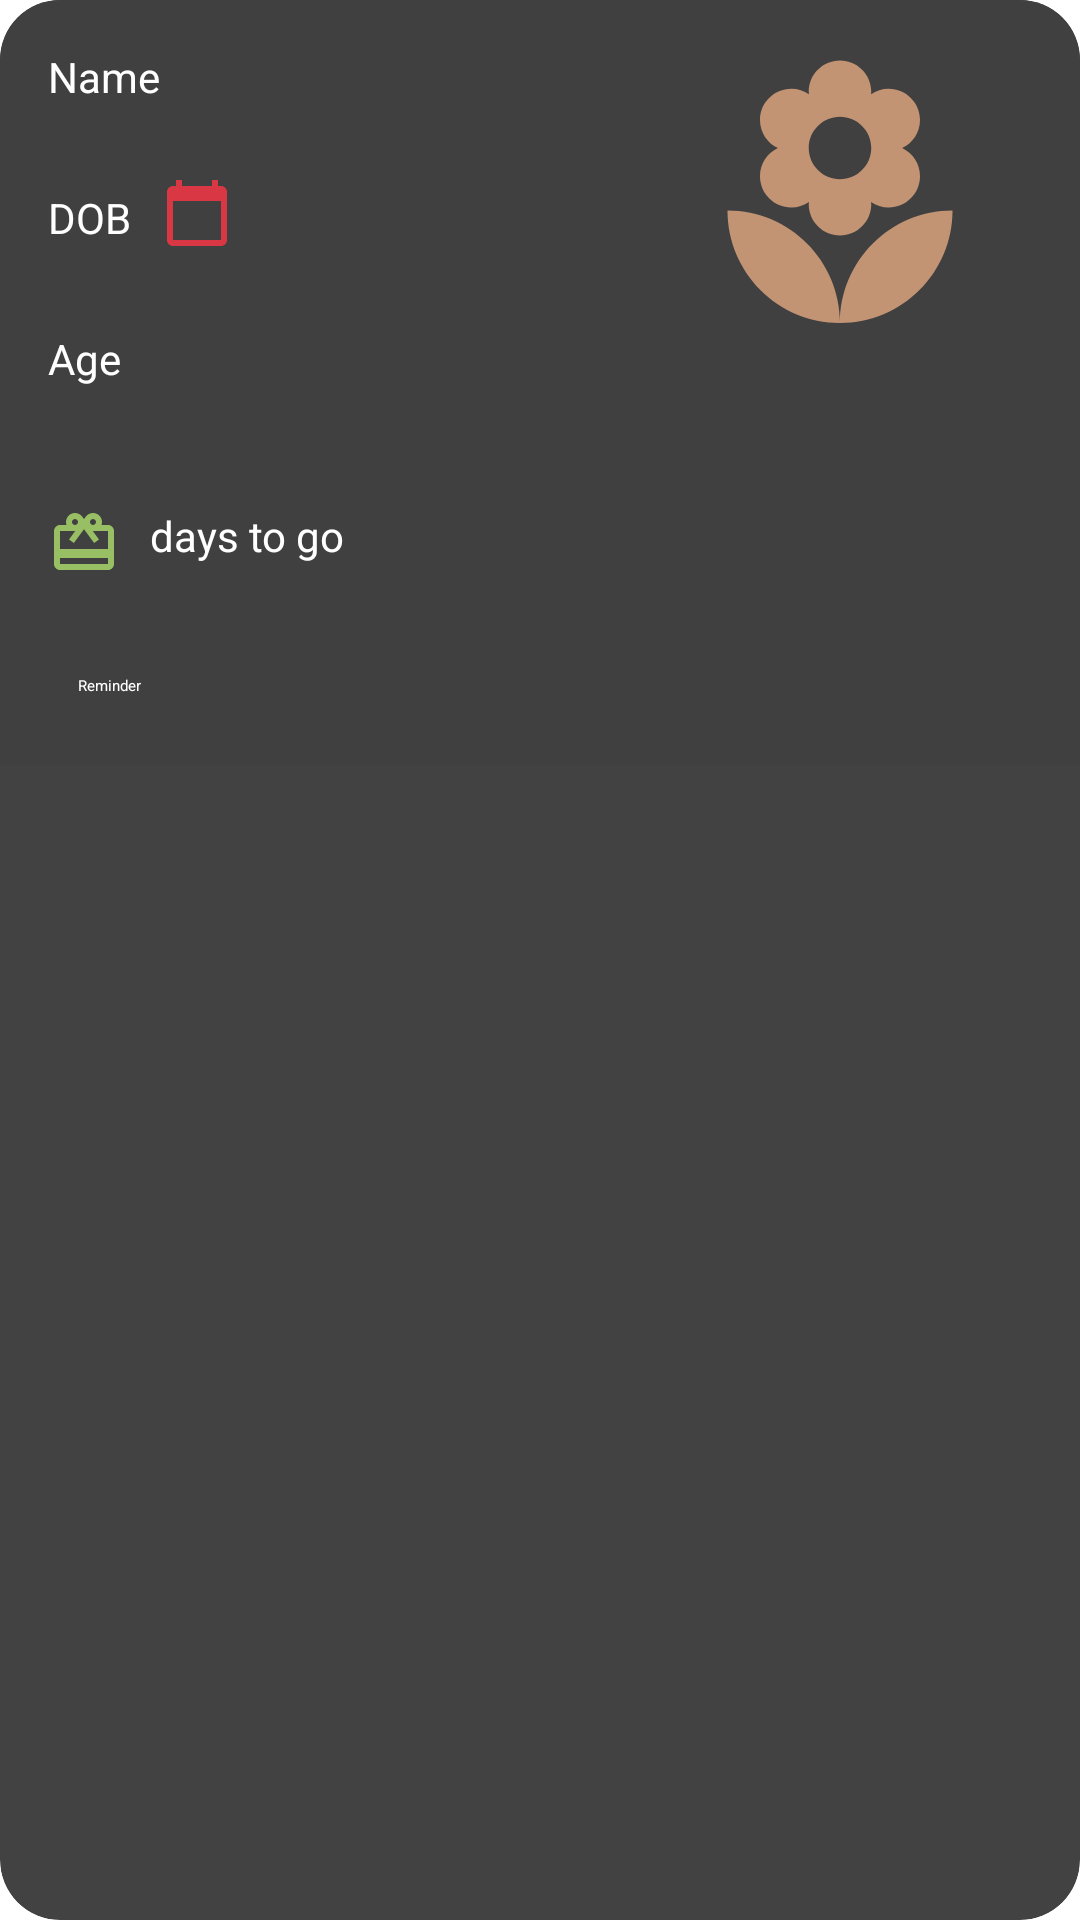

Point at icon controls on the screen. Image size 1080px x 1920px, points as [x,y].
calendar today: [197,213]
card giftcard: [84,541]
local florist: [840,191]
